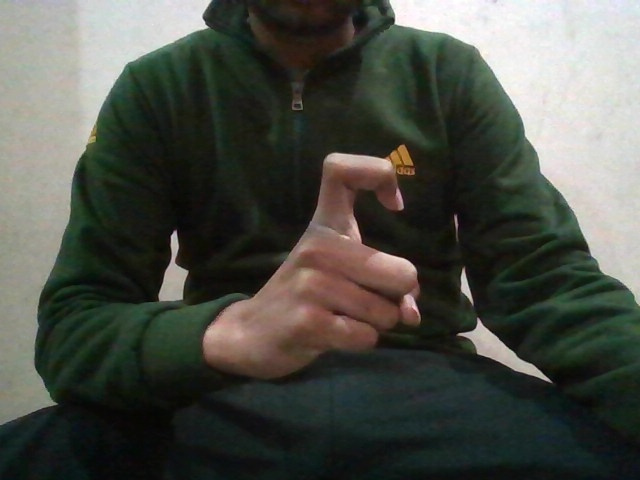P: (281, 146, 417, 385)
